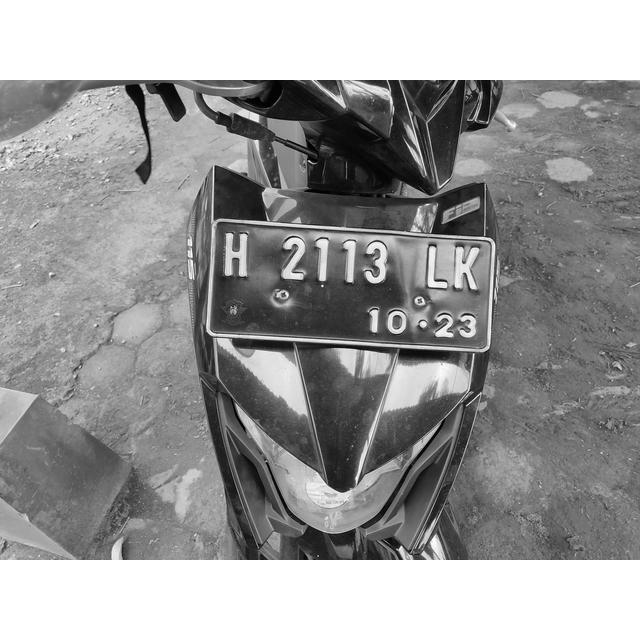license: (219, 227, 485, 343)
